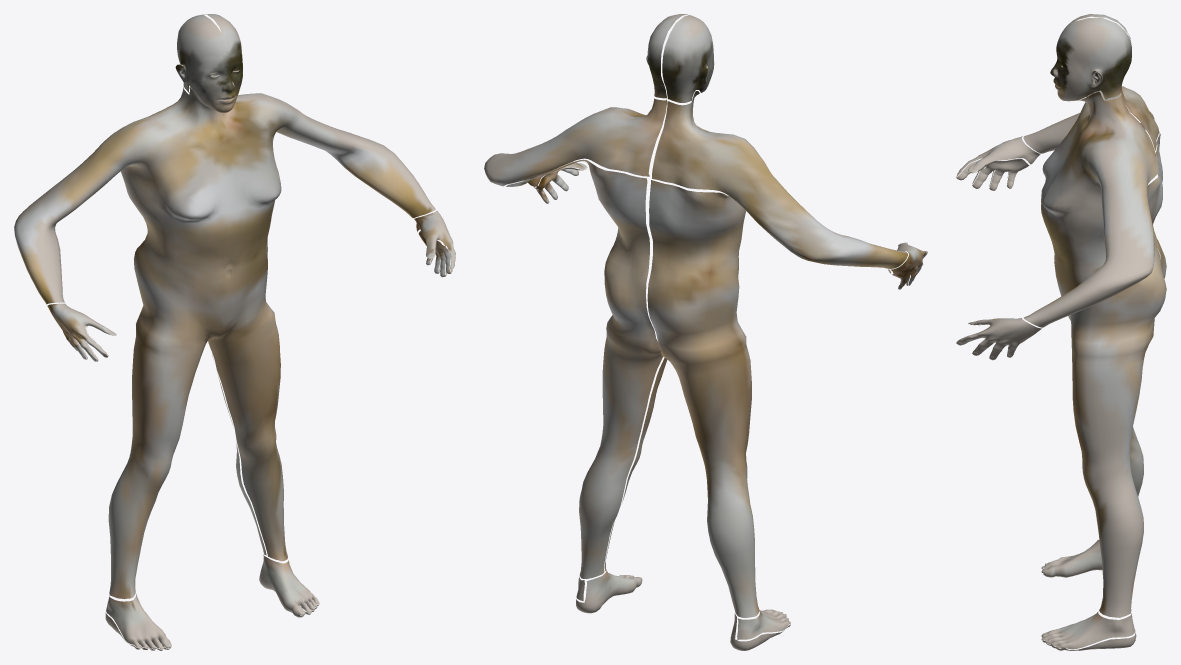
File: body_mesh.glb
3 views of the same model, side by side, from view 1: azimuth 30°, elevation 25°; view 2: azimuth 150°, elevation 25°; view 3: azimuth 270°, elevation 25° (orthographic).
Parts seen in each view (by area): view 1: base_male.obj; view 2: base_male.obj; view 3: base_male.obj.
Boxes of the visible parts, left/top/right/bottom form: base_male.obj: left=14, top=14, right=455, bottom=650; base_male.obj: left=484, top=14, right=927, bottom=650; base_male.obj: left=956, top=14, right=1166, bottom=650.
Bounding box in the file's own units: 1.18 × 1.75 × 0.5629.
